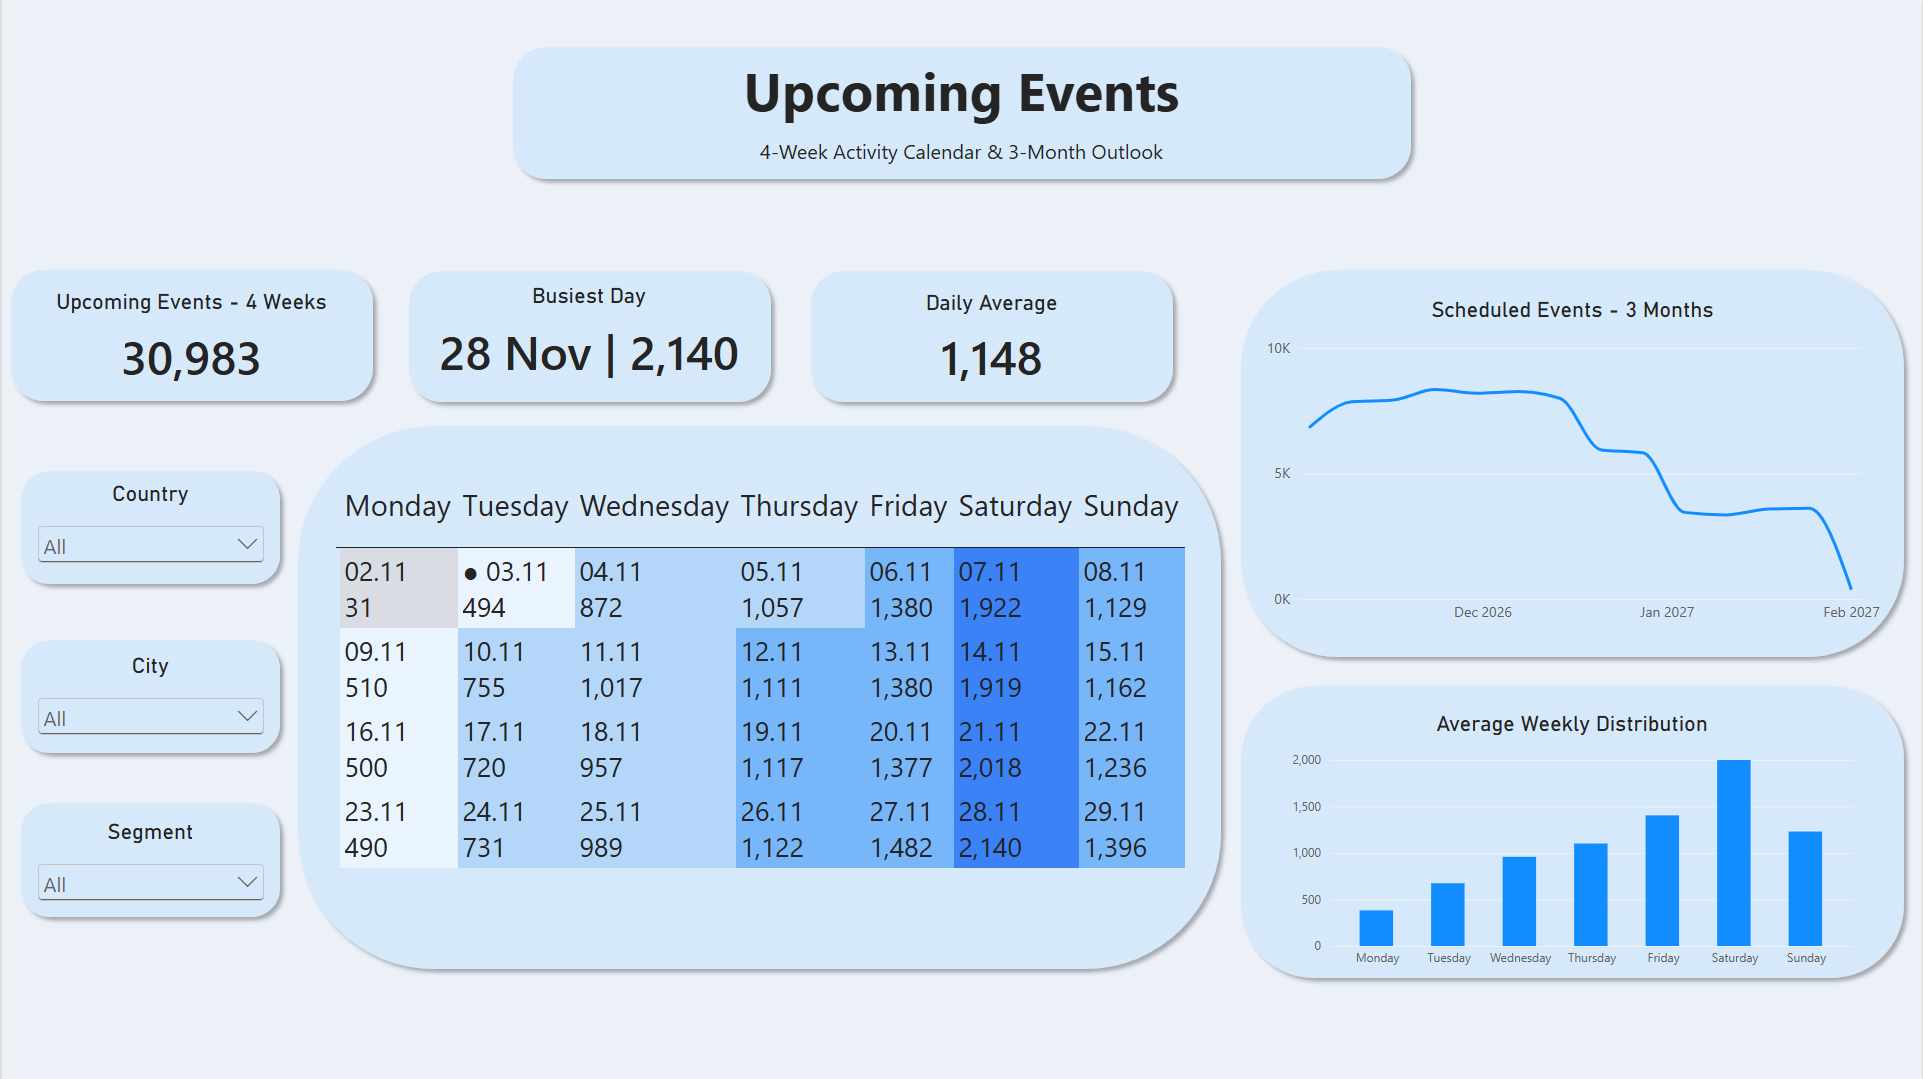

The dashboard page shown, as its layout file describes it:
{"tool":"powerbi","page":{"name":"Activity Calendar","canvas":[1920,1080],"ordinal":1},"visuals":[{"type":"shape","box":[800,262.2,380,148.9],"z":0},{"type":"shape","box":[397.8,262.2,380,148.9],"z":1000},{"type":"shape","box":[10,462.2,276.7,131.1],"z":2000},{"type":"shape","box":[0,261.1,380,148.9],"z":3000},{"type":"shape","box":[10,794.4,276.7,131.1],"z":4000},{"type":"shape","box":[287,416.5,941.1,561.1],"z":5000},{"type":"shape","box":[10,631.1,276.7,131.1],"z":6000},{"type":"shape","box":[1230,261.1,681.1,404.4],"z":7000},{"type":"shape","box":[1230,676.7,681.1,310],"z":8000},{"type":"cardVisual","title":"Daily Average","fields":{"Data":["_measures.Daily Average"]},"box":[813.3,290,353.3,91.1],"z":9000},{"type":"pivotTable","fields":{"Columns":["Calendar Grid.Day Name"],"Rows":["Calendar Grid.Week"],"Values":["_measures.Calendar Cell"]},"box":[317.8,465.6,893.3,482.2],"z":10000},{"type":"cardVisual","title":"Upcoming Events - 4 Weeks","fields":{"Data":["_measures.Upcoming Events Count"]},"box":[13.3,288.9,353.3,94.4],"z":11000},{"type":"cardVisual","title":"Busiest Day","fields":{"Data":["_measures.Busiest Day"]},"box":[411.1,283.3,353.3,94.4],"z":12000},{"type":"slicer","title":"Country","fields":{"Values":["dim_venue_location.venue_country_name"]},"box":[31.1,481.1,235.6,112.2],"z":13000},{"type":"slicer","title":"City","fields":{"Values":["dim_venue_location.venue_city"]},"box":[31.1,653.3,235.6,107.8],"z":14000},{"type":"slicer","title":"Segment","fields":{"Values":["dim_segment_genre_subgenre.classification_segment"]},"box":[31.1,818.9,235.6,114.4],"z":15000},{"type":"lineChart","title":"Scheduled Events - 3 Months","fields":{"Category":["dim_date.Week Start"],"Y":["_measures.Scheduled Events 6M"]},"box":[1247.8,283.3,646.7,360],"z":16000},{"type":"columnChart","title":"Average Weekly Distribution","fields":{"Category":["Calendar Grid.Day Name"],"Y":["_measures.Average Weekly Distribution"]},"box":[1274.4,696.7,592.2,290],"z":17000},{"type":"shape","box":[502.2,37.8,915.6,150],"z":18000},{"type":"textbox","box":[727.8,53.3,464.4,100],"z":19000},{"type":"textbox","box":[745.6,136.7,428,33],"z":20000}]}

Visuals, with their boxes in screenshot pixels (x1, y1, x2, y2), scaled from the page's 1920x1080 canvas onto the 1923x1079 screenshot:
shape: (801,262,1182,411)
shape: (398,262,779,411)
shape: (10,462,287,593)
shape: (0,261,381,410)
shape: (10,794,287,925)
shape: (287,416,1230,977)
shape: (10,631,287,761)
shape: (1232,261,1914,665)
shape: (1232,676,1914,986)
"Daily Average" cardVisual: (815,290,1168,381)
pivotTable - Calendar Grid.Day Name x Calendar Grid.Week: (318,465,1213,947)
"Upcoming Events - 4 Weeks" cardVisual: (13,289,367,383)
"Busiest Day" cardVisual: (412,283,766,377)
"Country" slicer: (31,481,267,593)
"City" slicer: (31,653,267,760)
"Segment" slicer: (31,818,267,932)
"Scheduled Events - 3 Months" lineChart: (1250,283,1897,643)
"Average Weekly Distribution" columnChart: (1276,696,1870,986)
shape: (503,38,1420,188)
textbox: (729,53,1194,153)
textbox: (747,137,1175,170)
